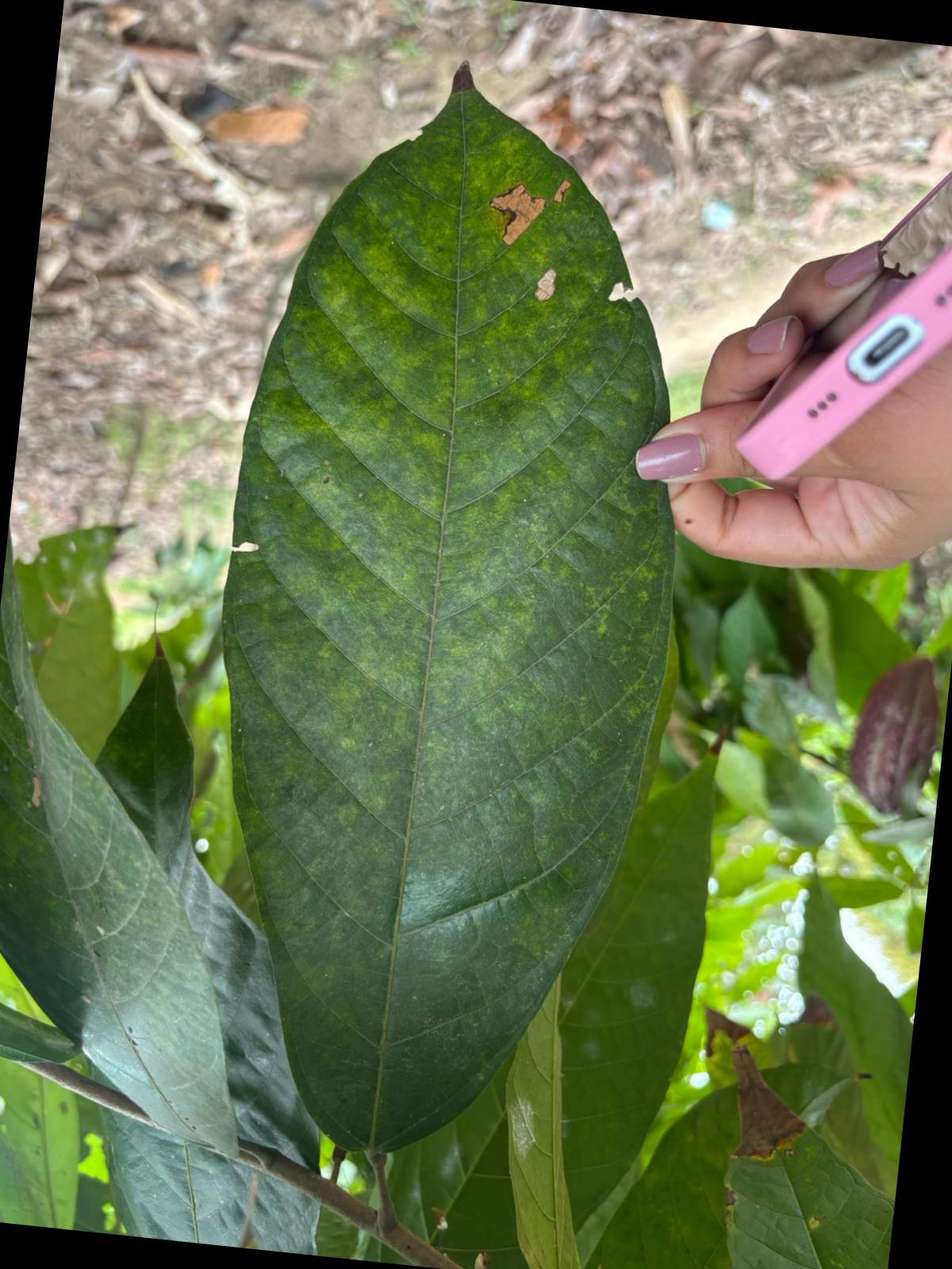Fosforo: (224, 72, 674, 1149)
